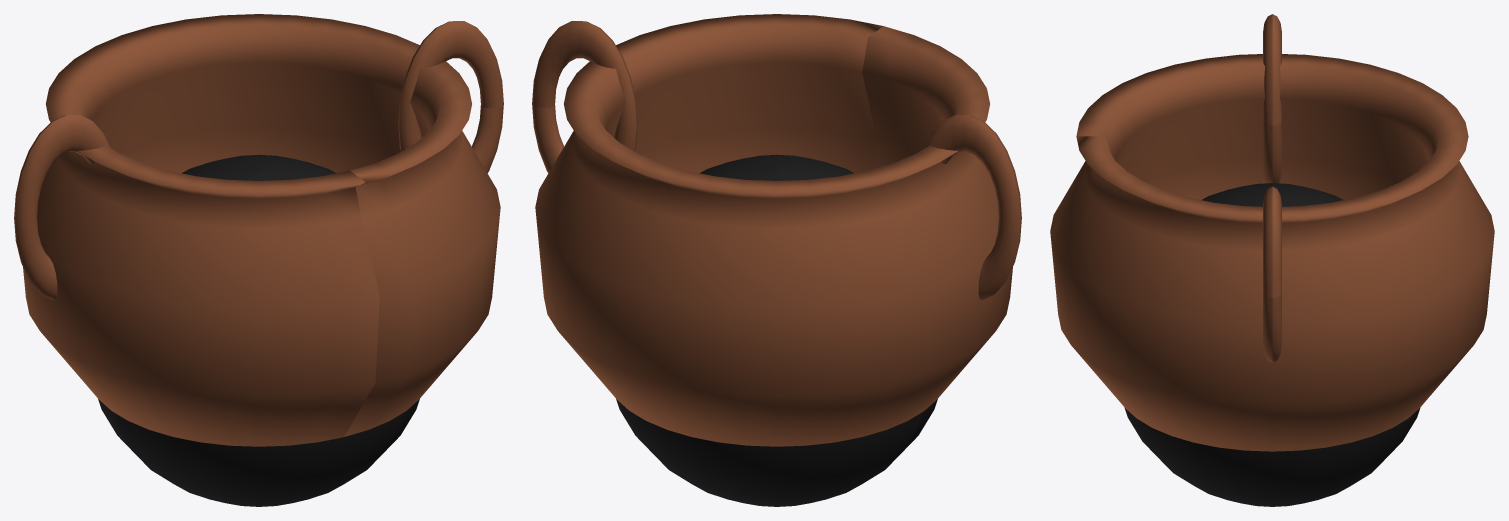
3 renders of one model, left to right at view 1: azimuth 30°, elevation 25°; view 2: azimuth 150°, elevation 25°; view 3: azimuth 270°, elevation 25°, orthographic. The views are drawn at different scales.
Parts seen in each view (by area): view 1: OBJ-005 — DEMO NON_VALIDE; view 2: OBJ-005 — DEMO NON_VALIDE; view 3: OBJ-005 — DEMO NON_VALIDE.
Boxes of the visible parts, box(x1,y1,x2,y2) form: OBJ-005 — DEMO NON_VALIDE: box(14, 14, 503, 506); OBJ-005 — DEMO NON_VALIDE: box(532, 14, 1021, 506); OBJ-005 — DEMO NON_VALIDE: box(1050, 14, 1494, 506).
Size of the model in its own units: 2 by 1.66 by 1.72.
